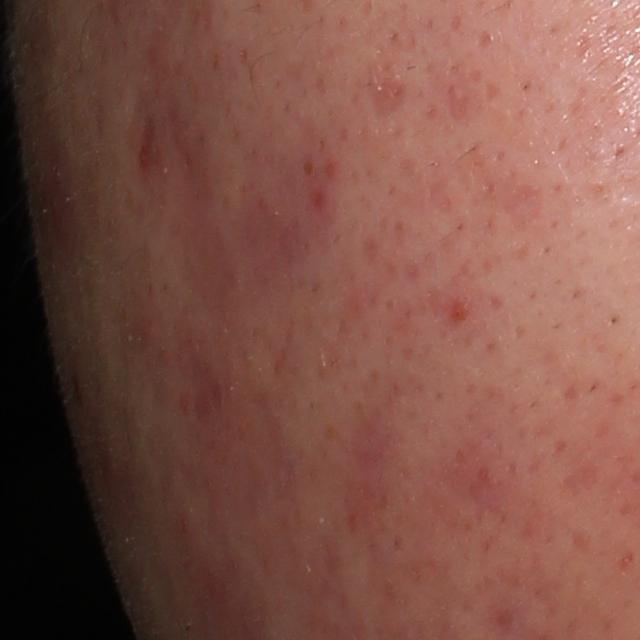comedo: (296, 159, 317, 181)
